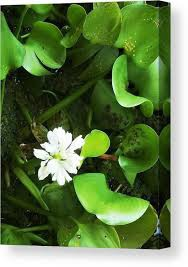water_hyacinth: (1, 6, 170, 248)
